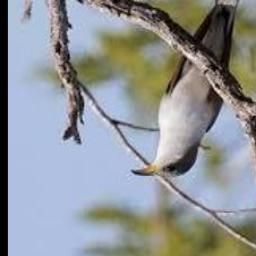Cuckoo: (131, 0, 250, 177)
